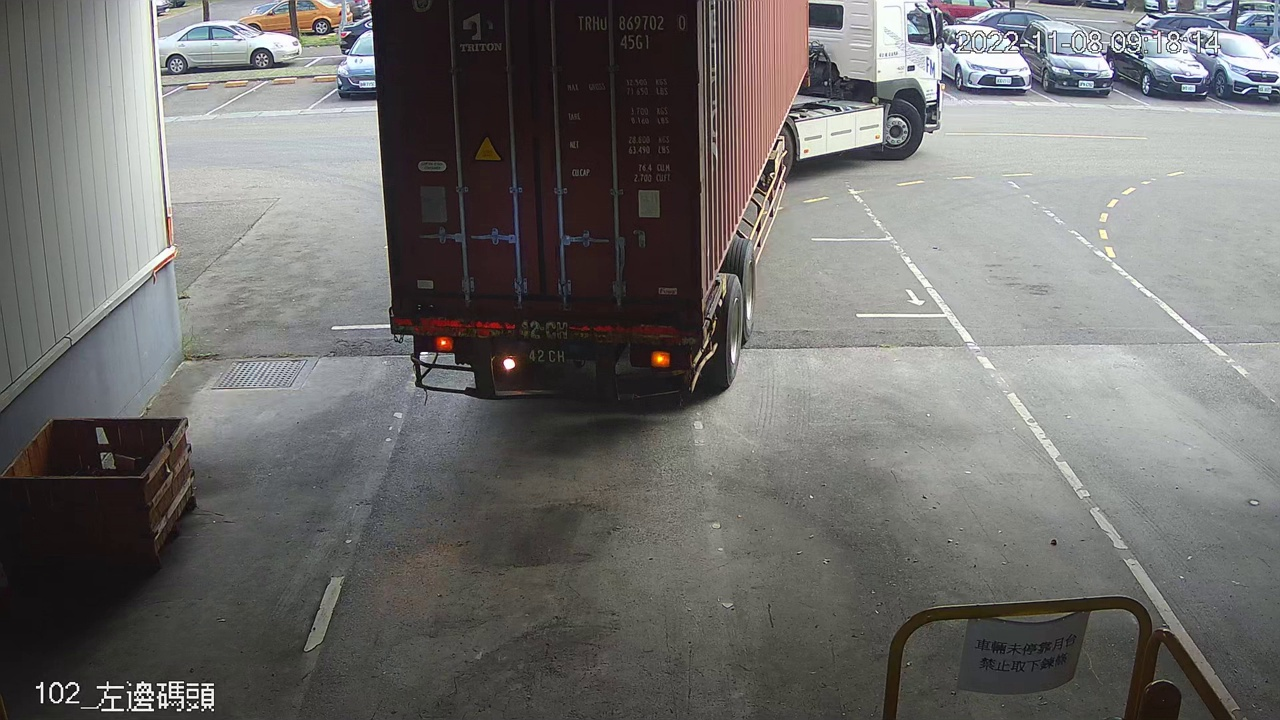container: (573, 7, 690, 56)
